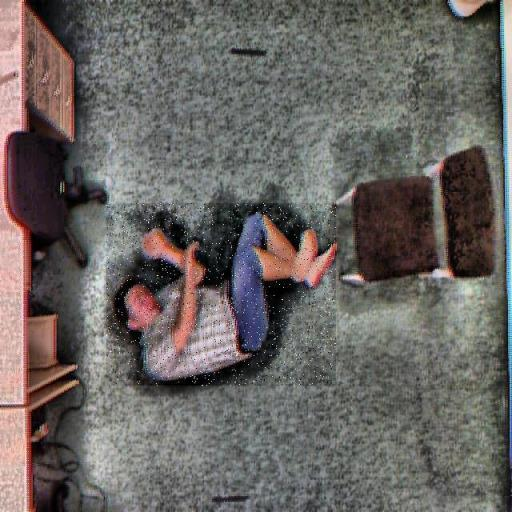Fall: (106, 204, 336, 386)
